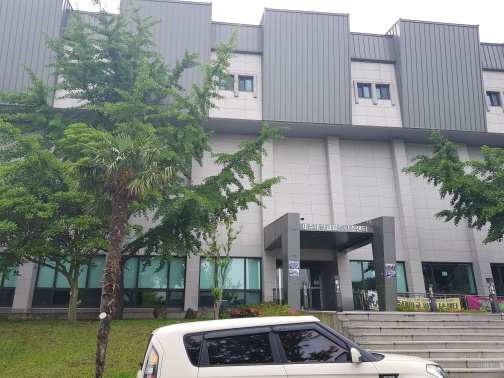Gym: (18, 7, 502, 316), (248, 12, 496, 150), (245, 190, 416, 310)
